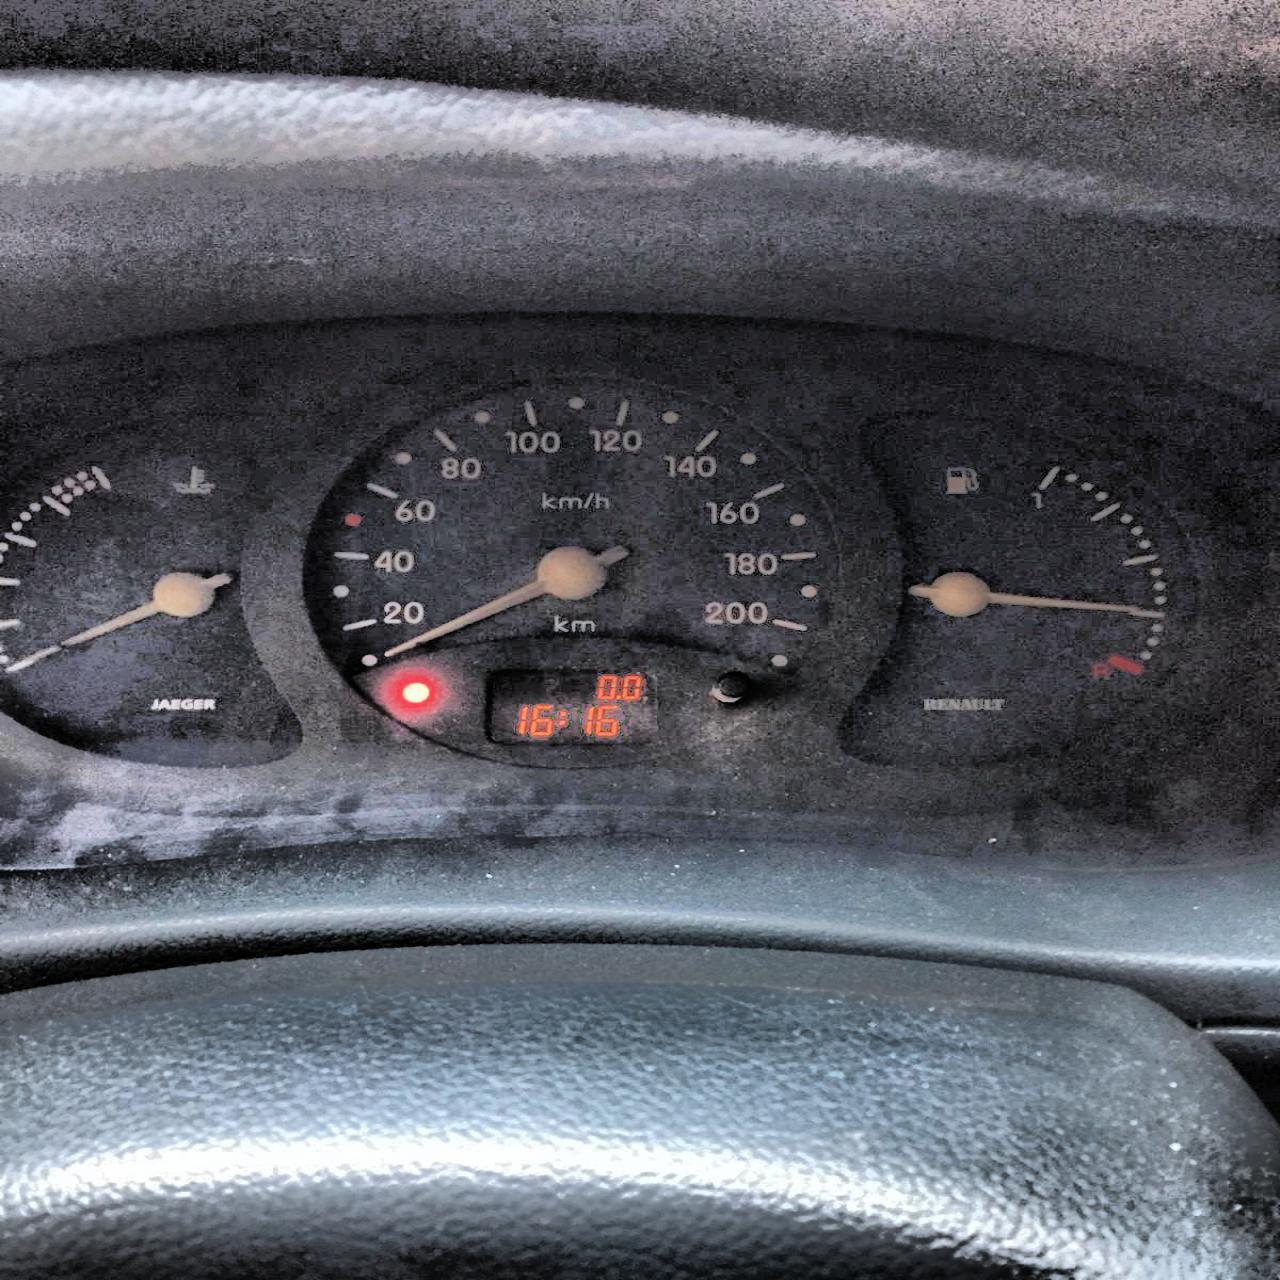-: (614, 694, 620, 700)
0: (597, 674, 617, 700), (621, 675, 640, 699)
1: (517, 706, 526, 735), (585, 707, 593, 735)
6: (530, 704, 553, 735), (594, 704, 618, 735)
X: (557, 709, 566, 726)
odometer: (483, 668, 662, 743)
